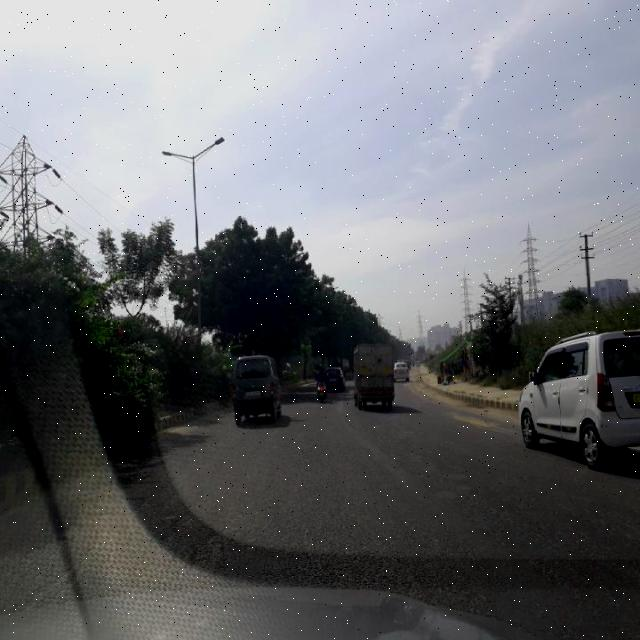D40: (146, 498, 241, 572)
